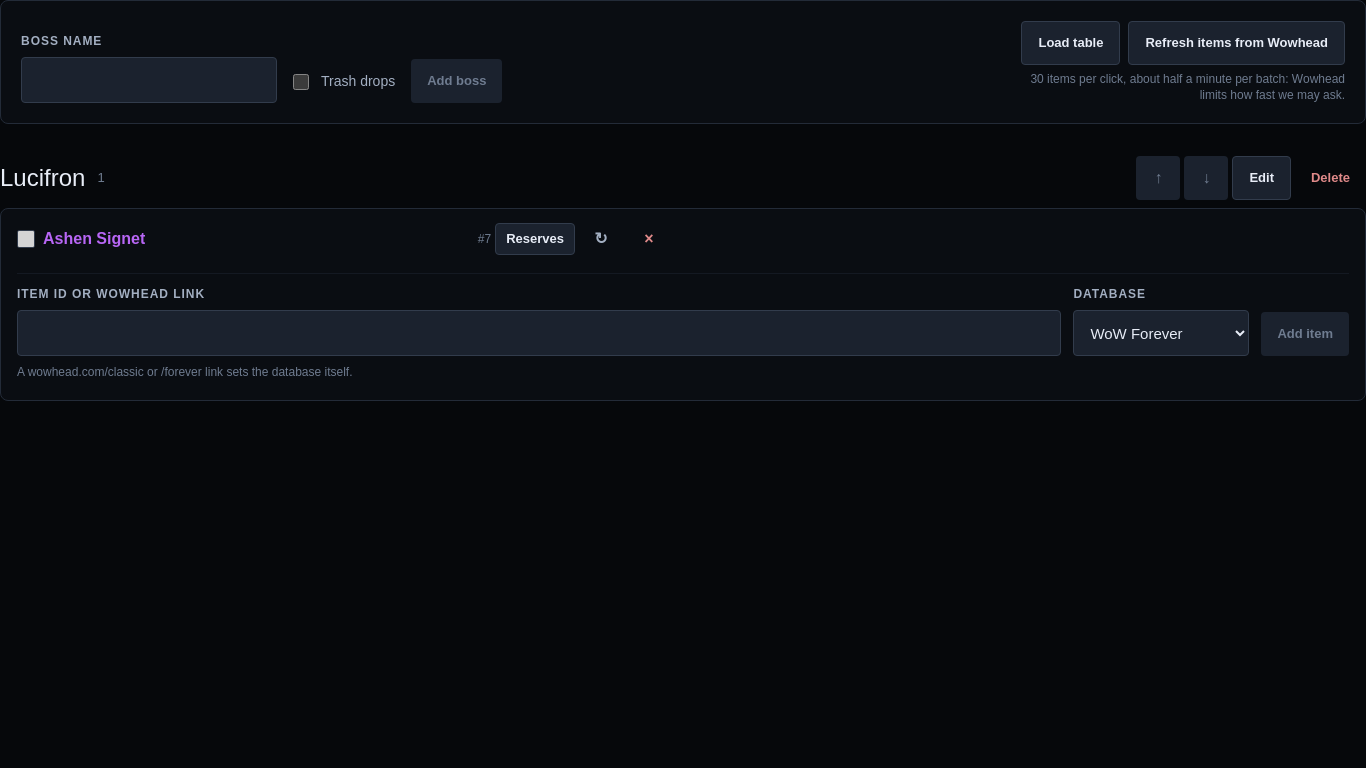
Test case: removing an item › asks first and sends nothing
Click the button named "Remove Ashen Signet from Lucifron".
click(649, 239)  # box [627,217,671,261]
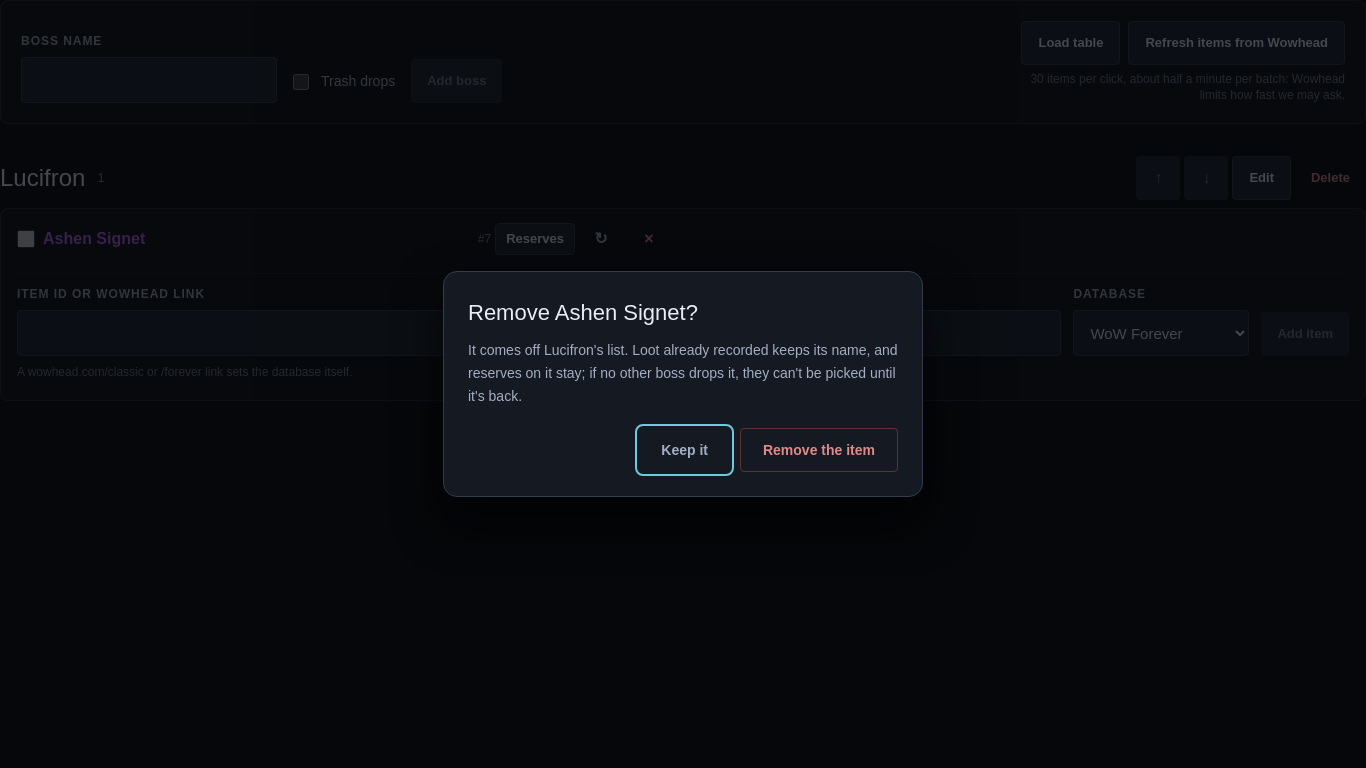
Check: the heading "Remove Ashen Signet?" is shown, box [468,300,698,325]
Check: the dialog shows "Lucifron's list", box [468,342,898,404]
